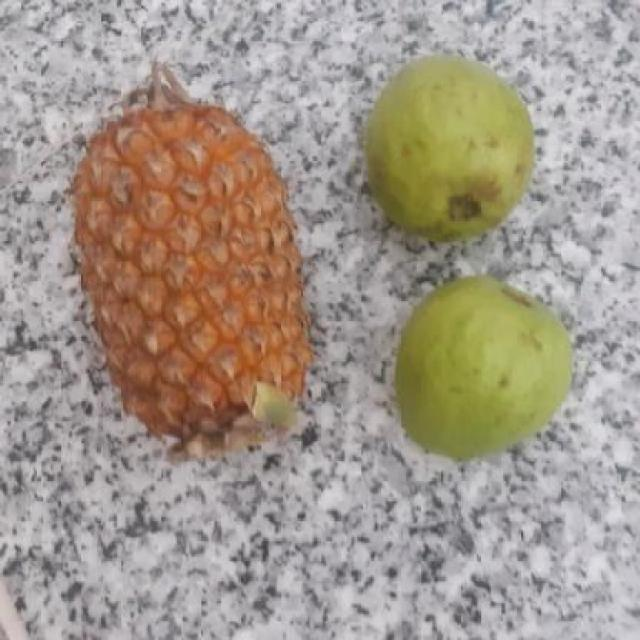guava: (393, 278, 581, 456), (368, 54, 542, 234)
pineapple: (70, 92, 316, 430)
